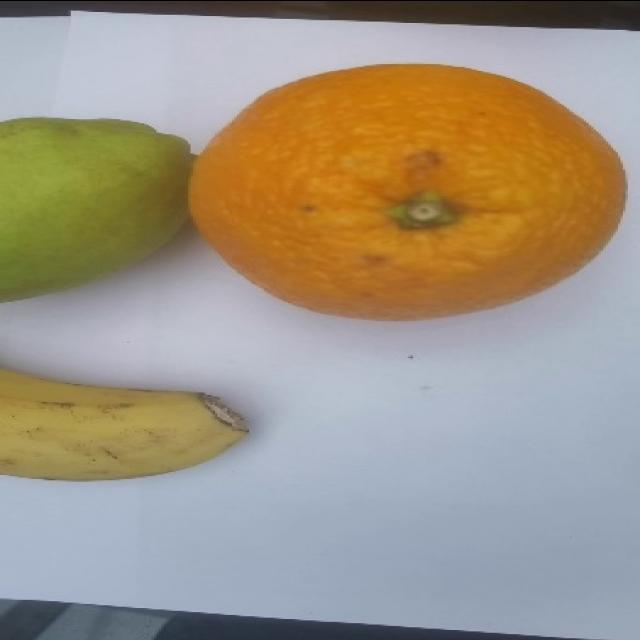Banana: (0, 365, 249, 481)
Orange: (187, 61, 627, 321)
